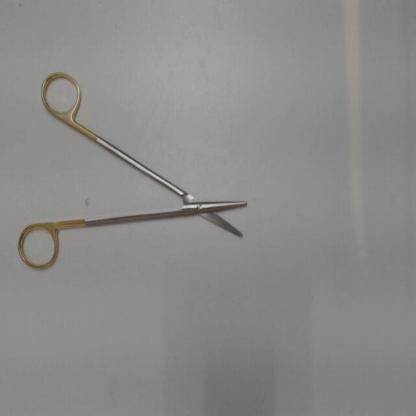7 Metzenbaum Scissors: (18, 68, 248, 272)
